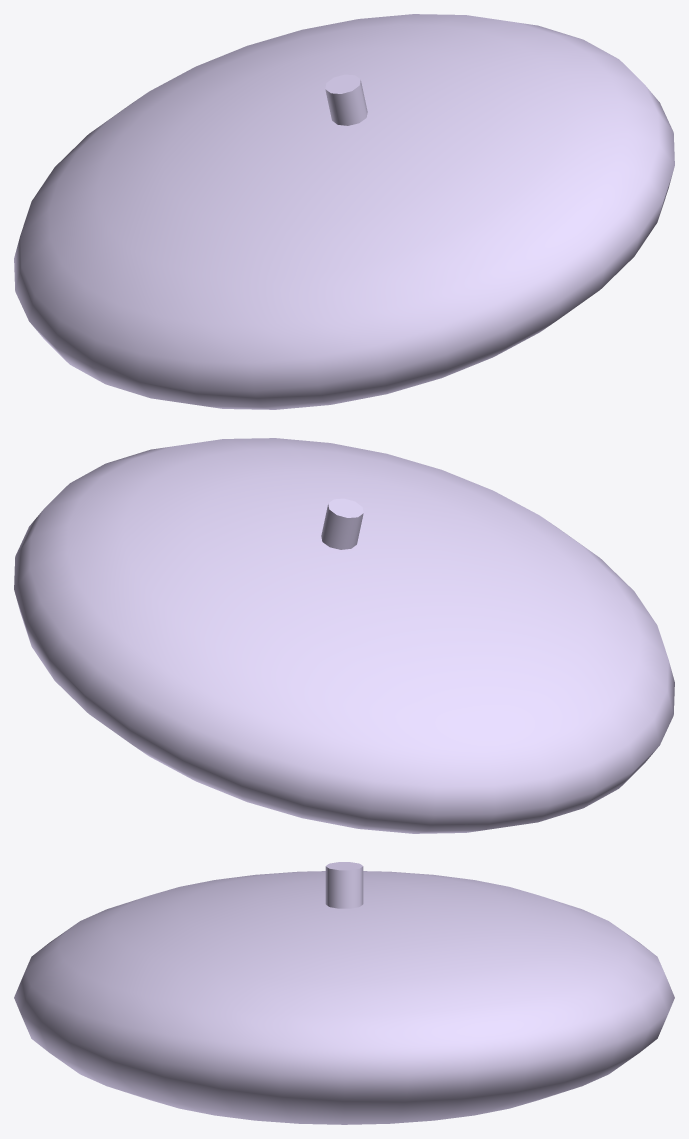
File: Acc_Beret.fbx
3 views of the same model, one above another, from view 1: azimuth 30°, elevation 25°; view 2: azimuth 150°, elevation 25°; view 3: azimuth 270°, elevation 25° (orthographic). The views are drawn at different scales.
Parts seen in each view (by area): view 1: Acc_Beret; view 2: Acc_Beret; view 3: Acc_Beret.
Part boxes in pixels (x1,y1,x2,y2): Acc_Beret: [14, 14, 674, 409]; Acc_Beret: [14, 438, 674, 833]; Acc_Beret: [14, 862, 674, 1124].
Bounding box in the file's own units: 0.1448 × 0.0577 × 0.14.
